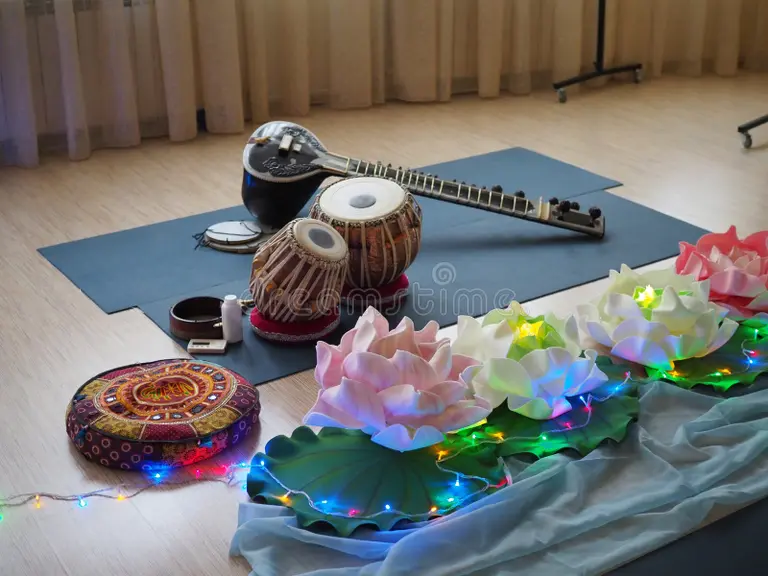tabla: (314, 175, 421, 283), (251, 217, 348, 334)
